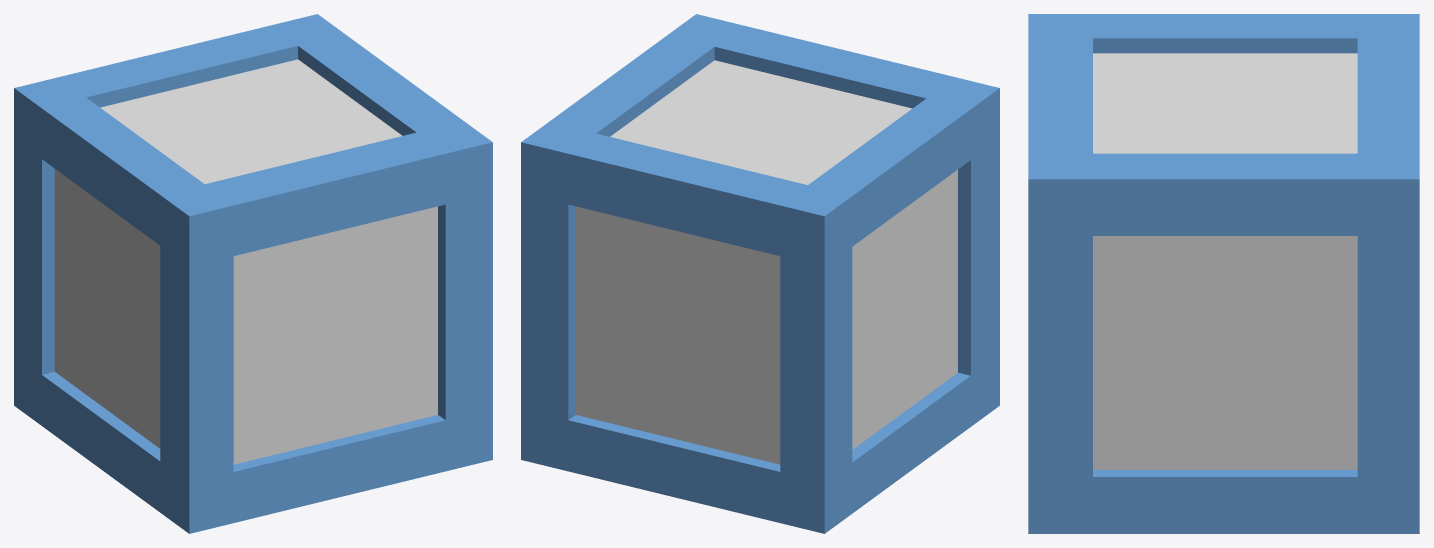
Rendered from Cratebox.fbx.
3 views of the same model, side by side, from view 1: azimuth 30°, elevation 25°; view 2: azimuth 150°, elevation 25°; view 3: azimuth 270°, elevation 25° (orthographic). The views are drawn at different scales.
Parts seen in each view (by area): view 1: Cratebox; view 2: Cratebox; view 3: Cratebox.
Boxes of the visible parts, <box> form: Cratebox: <box>14,14,492,533</box>; Cratebox: <box>521,14,999,533</box>; Cratebox: <box>1028,14,1419,533</box>.
Bounding box in the file's own units: 46.06 × 46.06 × 46.06.
